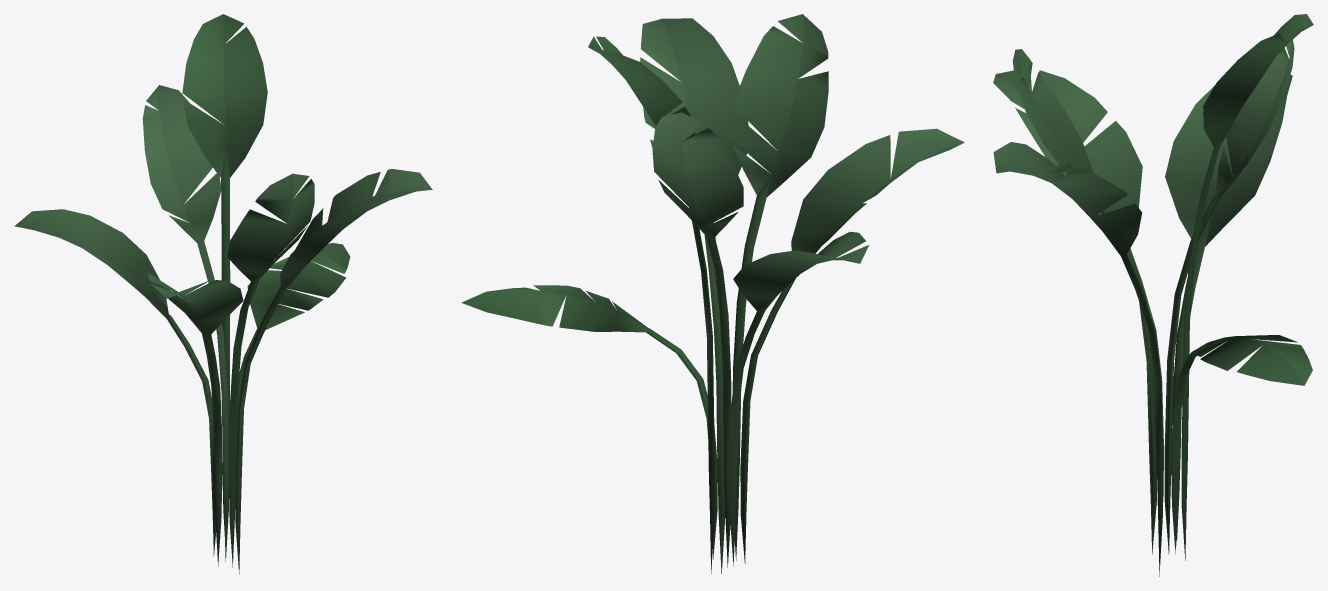
The model's file is plants-leafy-plants-broadleaf-plant_v2.fbx.
The picture shows the model from 3 angles, left to right: view 1: azimuth 30°, elevation 25°; view 2: azimuth 150°, elevation 25°; view 3: azimuth 270°, elevation 25°; orthographic projection. The views are drawn at different scales.
Visible parts, largest first — view 1: Broadleaf Plant_v2; view 2: Broadleaf Plant_v2; view 3: Broadleaf Plant_v2.
Boxes of the visible parts, bbox=[...] form: Broadleaf Plant_v2: bbox=[14, 14, 432, 574]; Broadleaf Plant_v2: bbox=[461, 14, 964, 573]; Broadleaf Plant_v2: bbox=[993, 14, 1313, 576].
Size of the model in its own units: 0.4249 by 0.6 by 0.3004.
